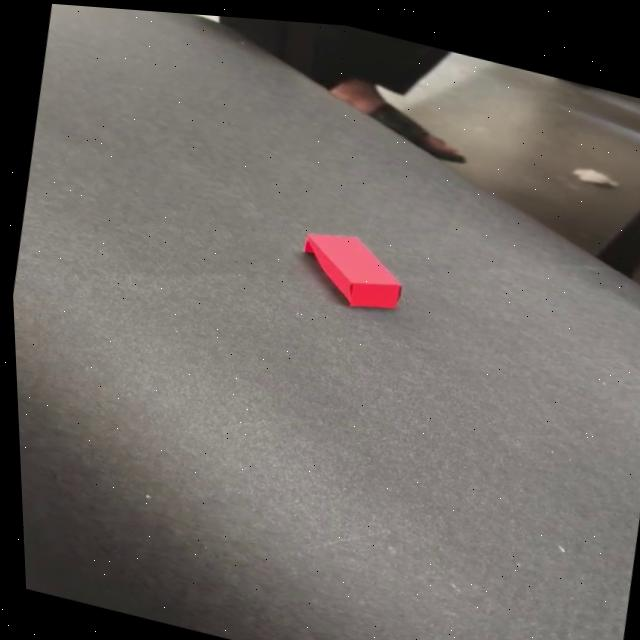red block: (294, 222, 412, 319)
